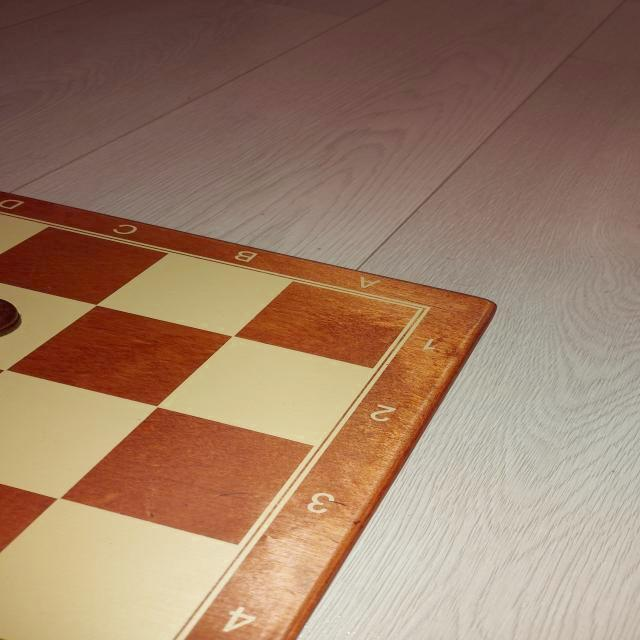chess-table-corners: (368, 290, 458, 338)
